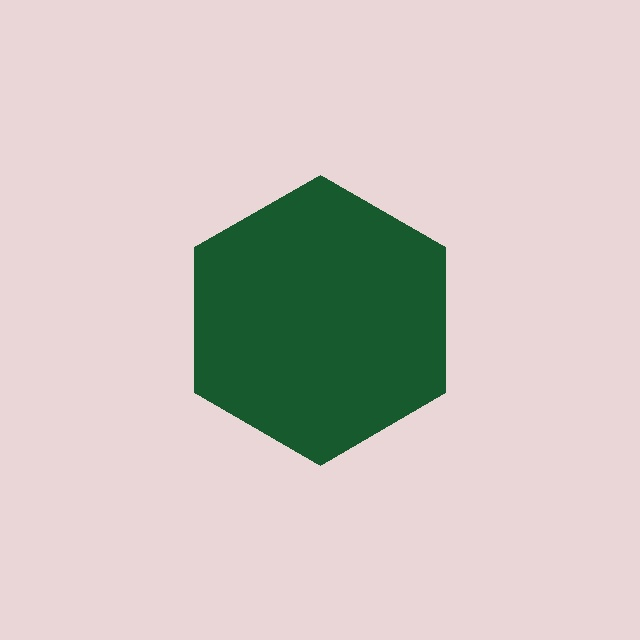circle: (194, 174, 446, 466)
